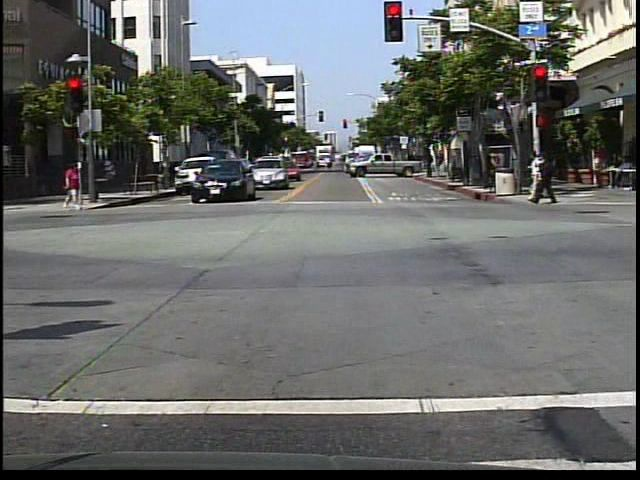person: (530, 151, 560, 209), (525, 145, 546, 201), (608, 149, 634, 193), (62, 161, 83, 213)
